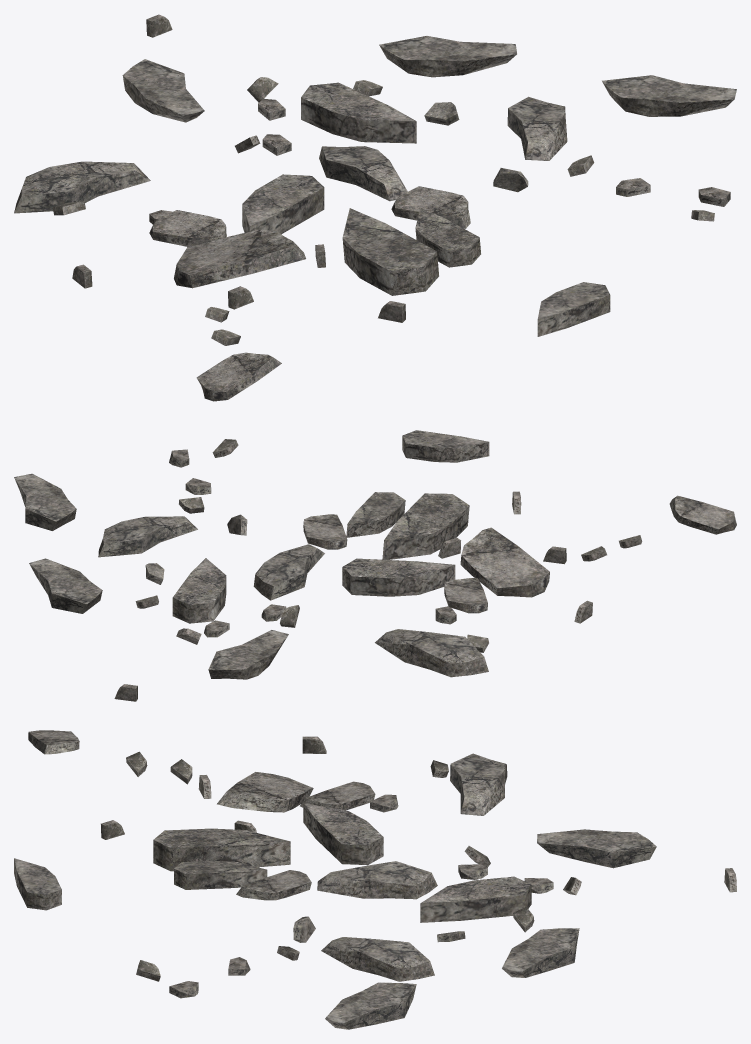
File: SM_building_debris_02.FBX
3 renders of one model, top to bottom at view 1: azimuth 30°, elevation 25°; view 2: azimuth 150°, elevation 25°; view 3: azimuth 270°, elevation 25°, orthographic. The views are drawn at different scales.
Visible parts, largest first — view 1: SM_building_debris_02; view 2: SM_building_debris_02; view 3: SM_building_debris_02.
Part boxes in pixels (x1,y1,x2,y2): SM_building_debris_02: (14,14,736,401); SM_building_debris_02: (14,430,736,701); SM_building_debris_02: (14,730,736,1029).
Bounding box in the file's own units: 544 × 31.12 × 554.
